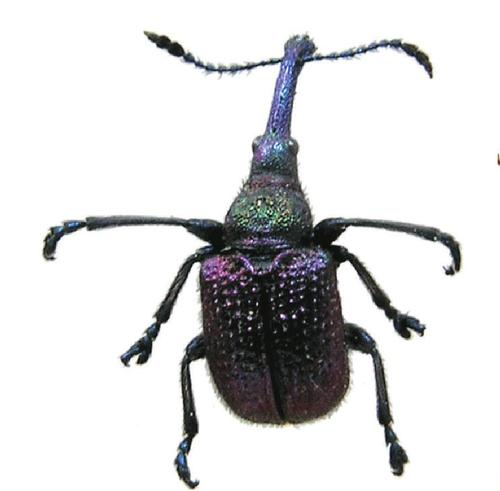Curculionidae: (42, 29, 461, 489)
